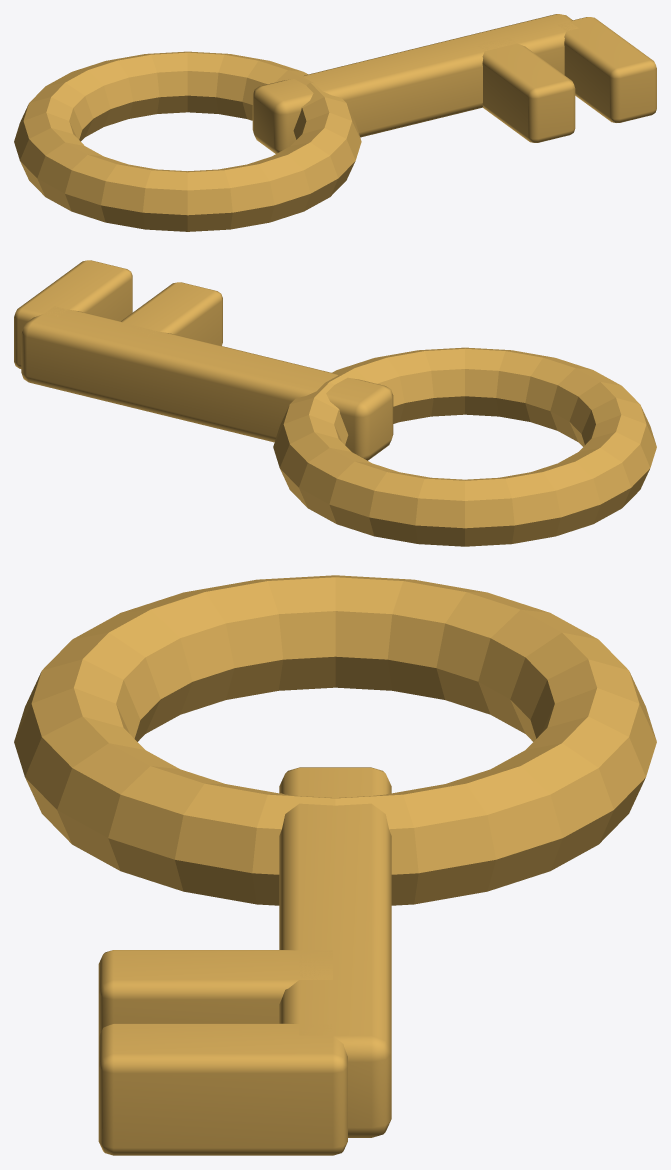
File: brass_key.glb
The picture shows the model from 3 angles, top to bottom: view 1: azimuth 30°, elevation 25°; view 2: azimuth 150°, elevation 25°; view 3: azimuth 270°, elevation 25°; orthographic projection. The views are drawn at different scales.
Visible parts, largest first — view 1: key_bow, key_shaft, key_tooth_0.21, key_tooth_0.14; view 2: key_bow, key_shaft, key_tooth_0.21, key_tooth_0.14; view 3: key_bow, key_tooth_0.21, key_shaft, key_tooth_0.14.
Part boxes in pixels (<box>): key_bow: <box>14,51,361,231</box>; key_shaft: <box>252,14,578,153</box>; key_tooth_0.21: <box>557,17,656,122</box>; key_tooth_0.14: <box>478,37,575,142</box>; key_bow: <box>273,347,656,546</box>; key_shaft: <box>21,306,393,460</box>; key_tooth_0.21: <box>14,260,132,368</box>; key_tooth_0.14: <box>119,282,222,345</box>; key_bow: <box>14,575,656,905</box>; key_tooth_0.21: <box>98,1023,347,1155</box>; key_shaft: <box>279,767,391,1137</box>; key_tooth_0.14: <box>98,950,332,1036</box>.
Size of the model in its own units: 0.479 by 0.048 by 0.258.
